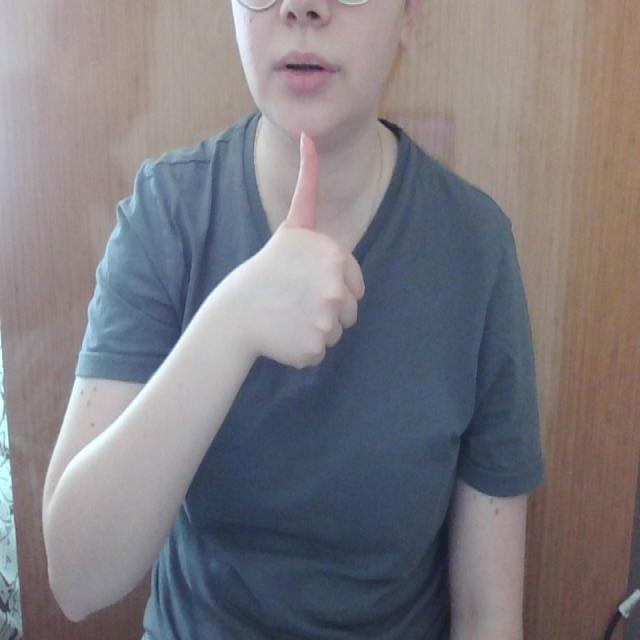Baba: (249, 34, 347, 211)
